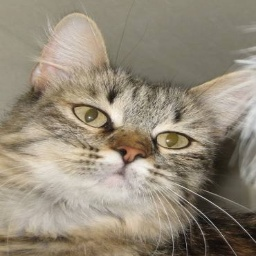cat: (0, 9, 256, 256)
